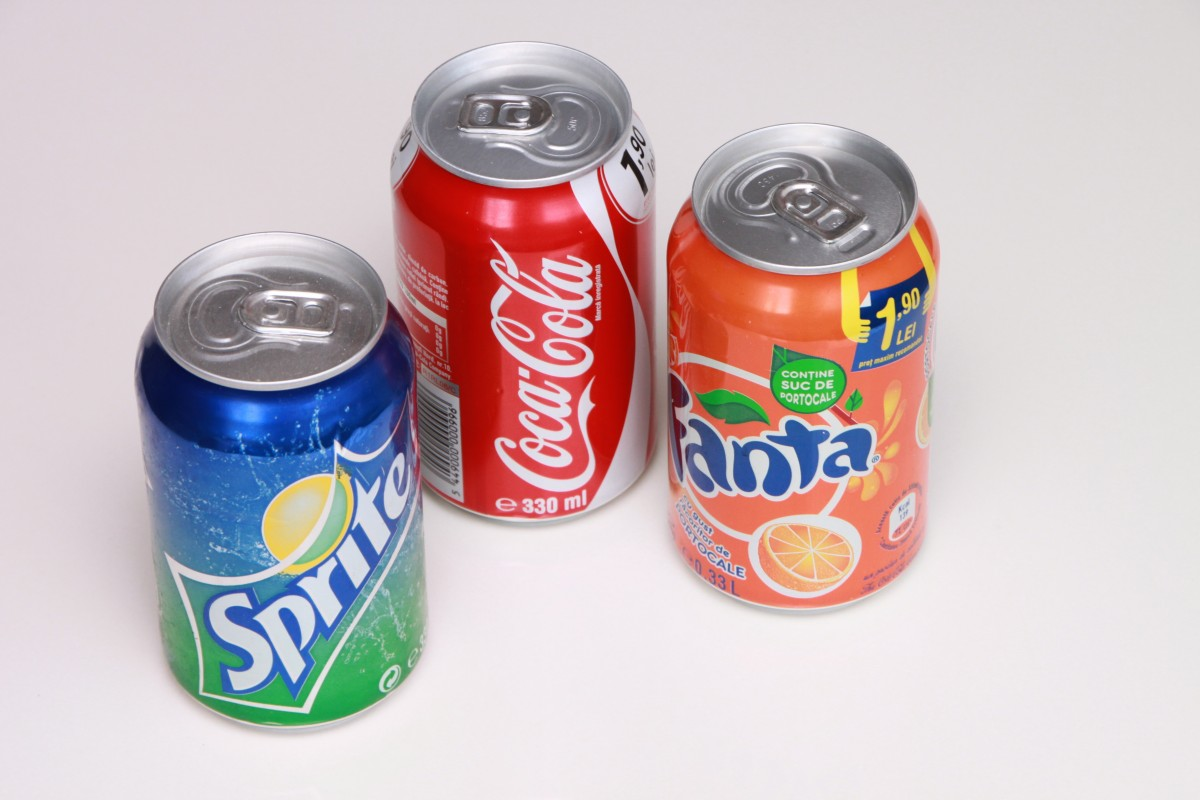fanta: (679, 146, 914, 594)
